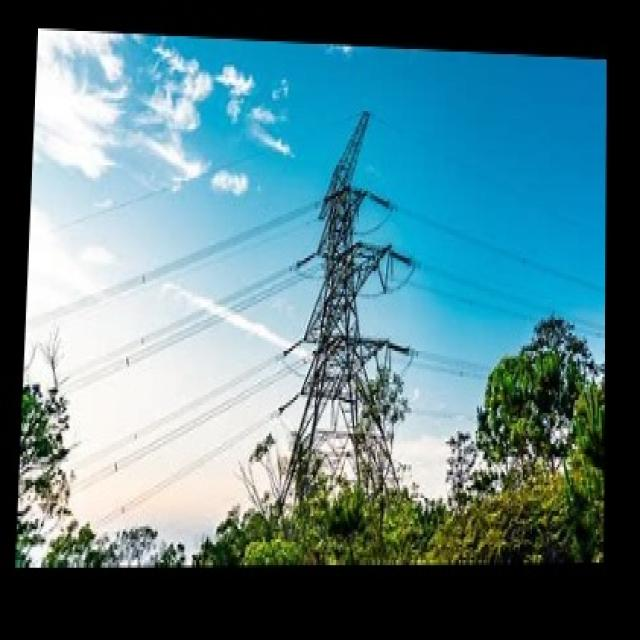utility poles: (434, 284, 580, 464), (324, 288, 412, 478)
